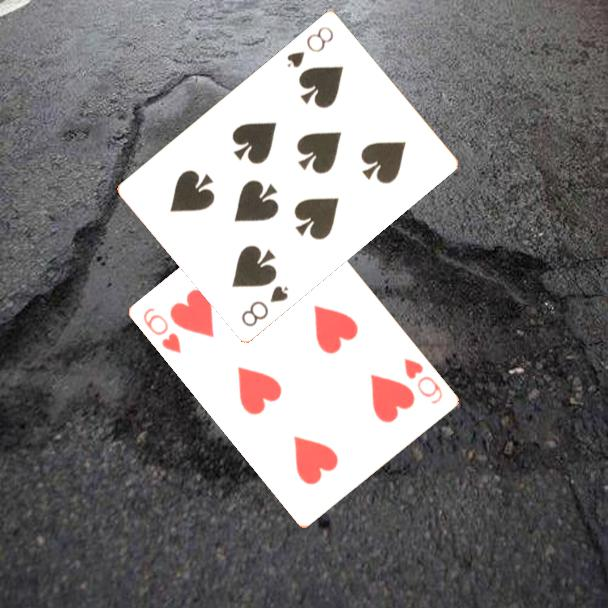h06: (401, 354, 446, 407), (140, 304, 185, 356)
s08: (283, 22, 337, 70), (238, 282, 291, 329)
